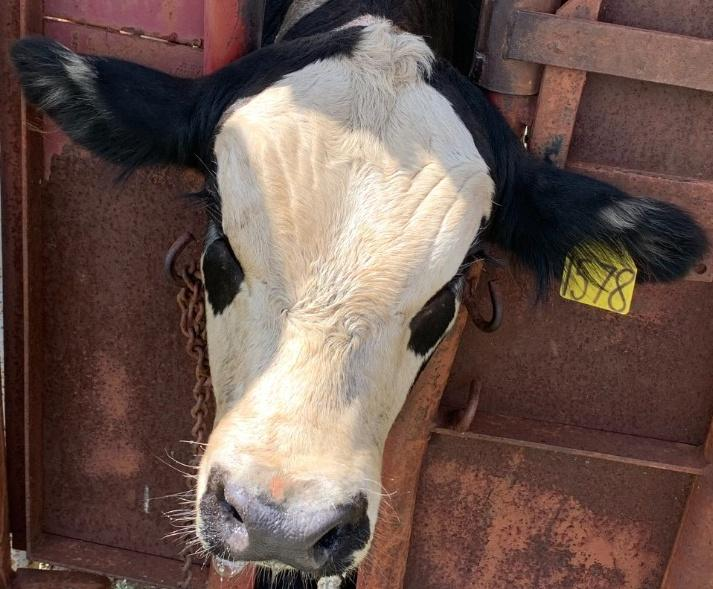muzzles: (194, 447, 380, 585)
